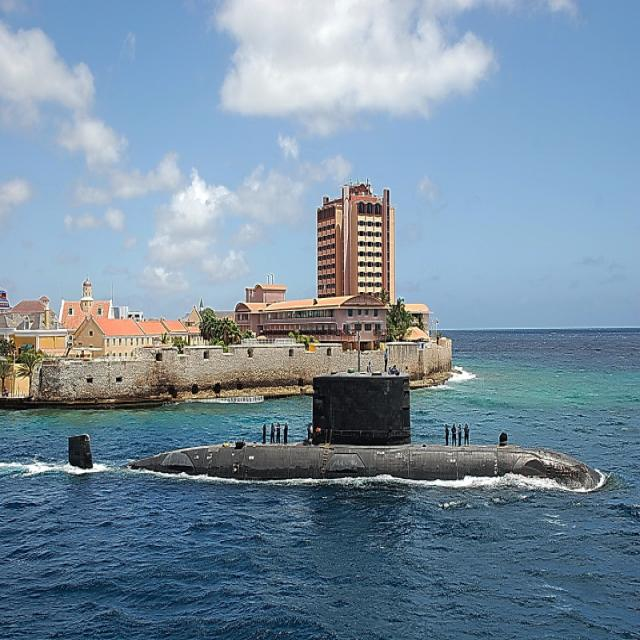submarine: (68, 362, 604, 490)
